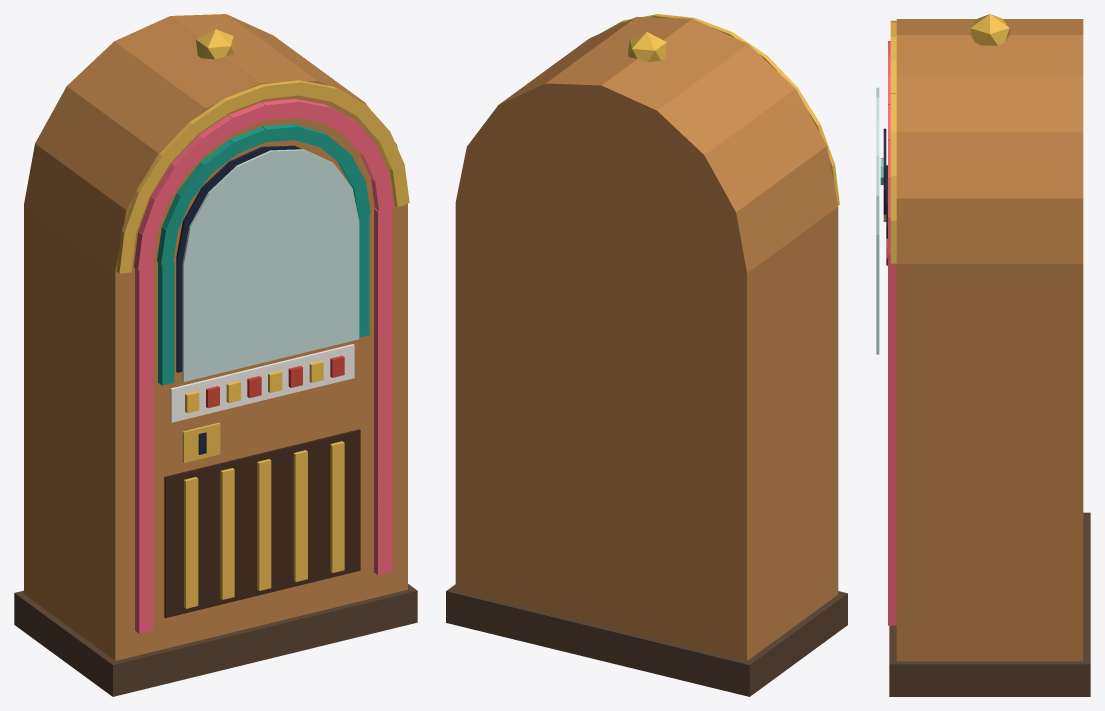
Rendered from CatCafe_Decor_RetroJukebox.glb.
3 views of the same model, side by side, from view 1: azimuth 30°, elevation 25°; view 2: azimuth 150°, elevation 25°; view 3: azimuth 270°, elevation 25° (orthographic). The views are drawn at different scales.
Parts seen in each view (by area): view 1: CatCafe_Decor_RetroJukebox, CatCafe_Decor_RetroJukebox_Glass, CatCafe_Decor_RetroJukebox_Glow; view 2: CatCafe_Decor_RetroJukebox; view 3: CatCafe_Decor_RetroJukebox, CatCafe_Decor_RetroJukebox_Glow, CatCafe_Decor_RetroJukebox_Glass.
Part boxes in pixels (x1,y1,x2,y2): CatCafe_Decor_RetroJukebox: (14, 14, 417, 696); CatCafe_Decor_RetroJukebox_Glass: (182, 149, 359, 381); CatCafe_Decor_RetroJukebox_Glow: (134, 98, 393, 633); CatCafe_Decor_RetroJukebox: (446, 14, 847, 696); CatCafe_Decor_RetroJukebox: (880, 14, 1090, 696); CatCafe_Decor_RetroJukebox_Glow: (888, 41, 896, 625); CatCafe_Decor_RetroJukebox_Glass: (876, 87, 879, 354).
Size of the model in its own units: 2.5 by 4.66 by 1.49.
Materials: 1 (1 with a texture image).
